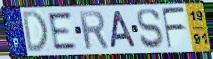A: (109, 9, 138, 49)
D: (21, 9, 49, 54)
E: (46, 11, 79, 52)
F: (160, 6, 187, 50)
R: (77, 10, 111, 51)
S: (136, 7, 164, 50)
